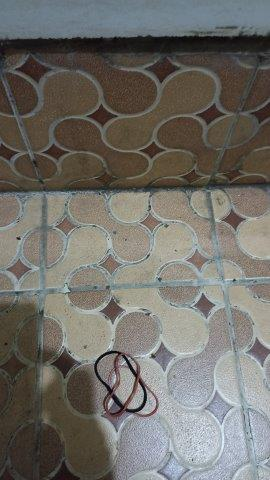karet: (95, 351, 161, 417)
